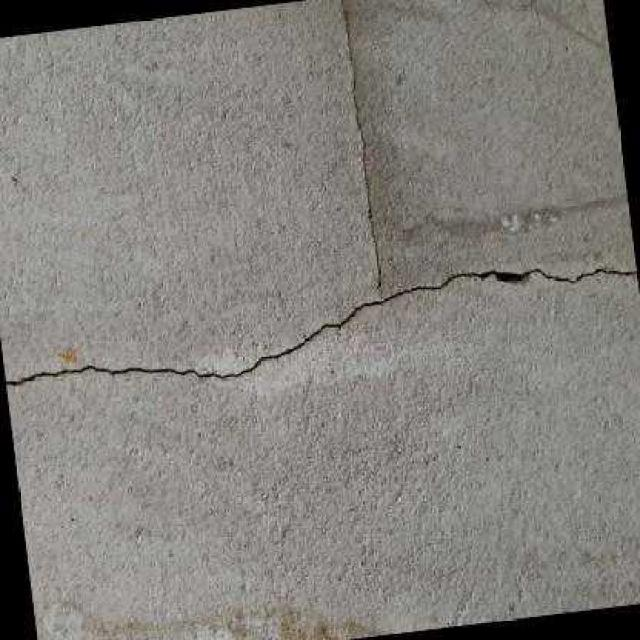D00: (5, 0, 637, 387)
